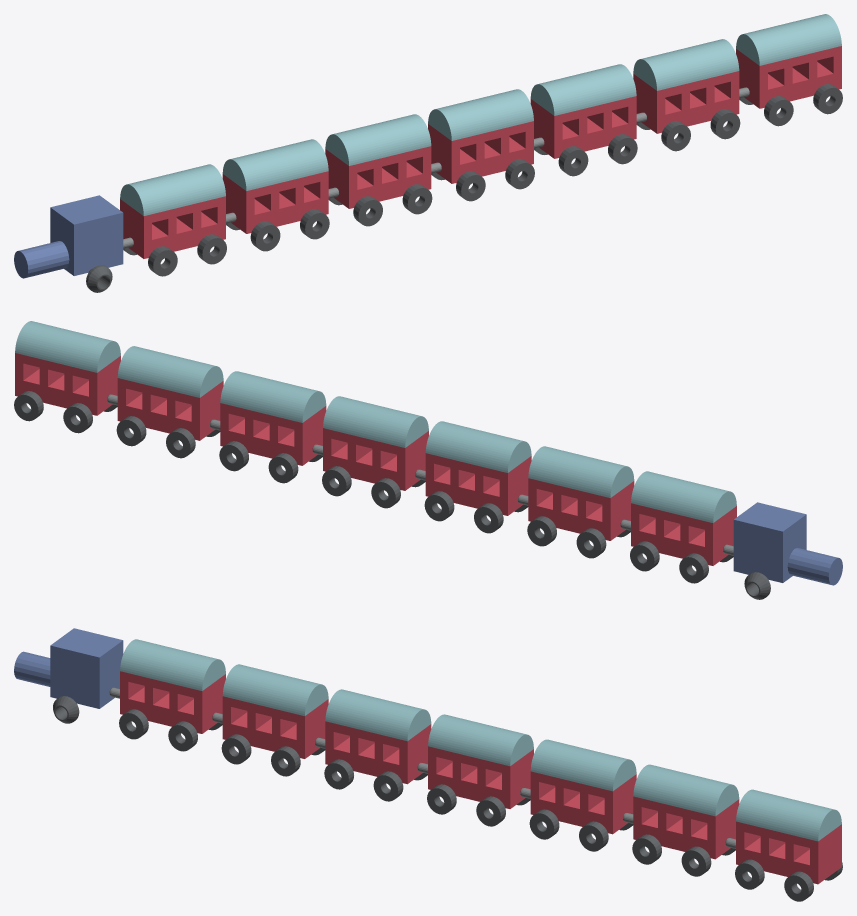
File: train.glb
3 views of the same model, one above another, from view 1: azimuth 30°, elevation 25°; view 2: azimuth 150°, elevation 25°; view 3: azimuth 330°, elevation 25° (orthographic).
Visible parts, largest first — view 1: Mesh_Mesh_head_geo.001_lambert2SG.001; view 2: Mesh_Mesh_head_geo.001_lambert2SG.001; view 3: Mesh_Mesh_head_geo.001_lambert2SG.001.
Part boxes in pixels (box(x1,y1,x2,y2)): Mesh_Mesh_head_geo.001_lambert2SG.001: box(14, 14, 842, 292); Mesh_Mesh_head_geo.001_lambert2SG.001: box(14, 321, 842, 599); Mesh_Mesh_head_geo.001_lambert2SG.001: box(14, 628, 842, 901).
Bounding box in the file's own units: 197 × 19 × 18.
